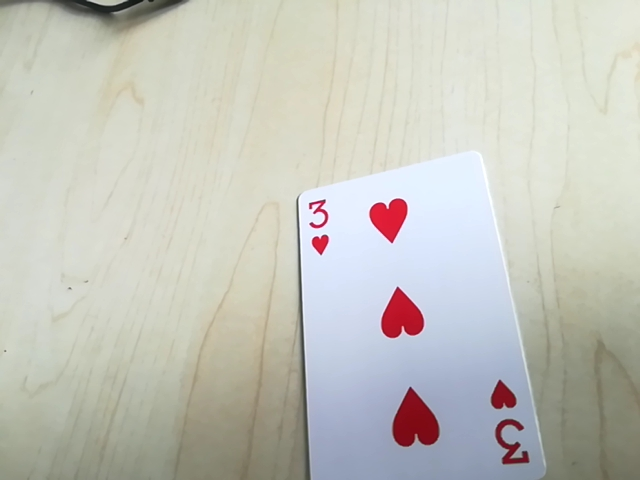hx 3: (494, 399, 534, 471), (296, 191, 334, 257)
